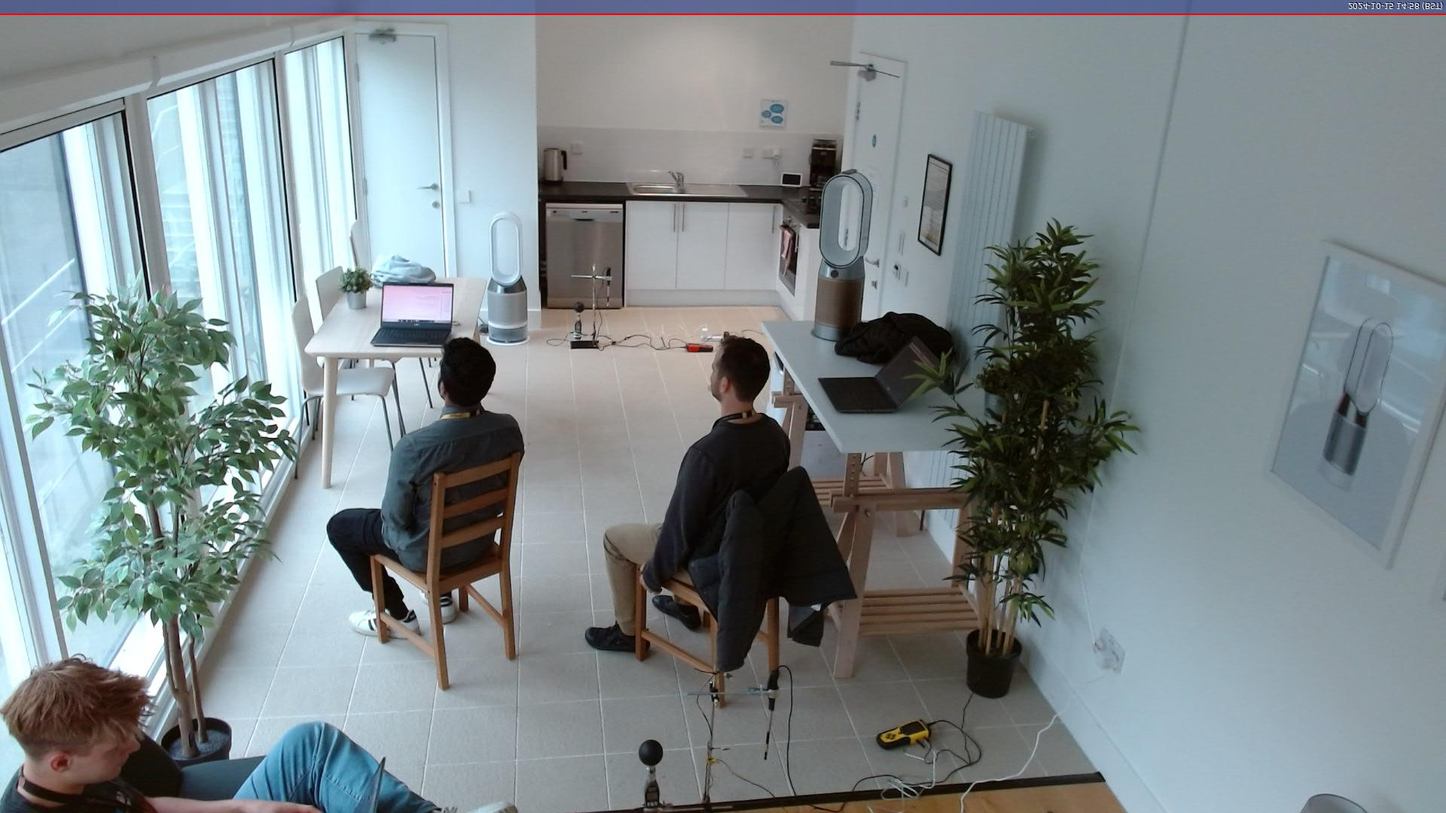long sleeve shirt: (379, 401, 529, 576)
short sleeve shirt: (0, 740, 161, 813)
sweater: (643, 415, 794, 592)
trousers: (230, 716, 446, 813), (324, 502, 406, 622), (602, 514, 671, 639)
